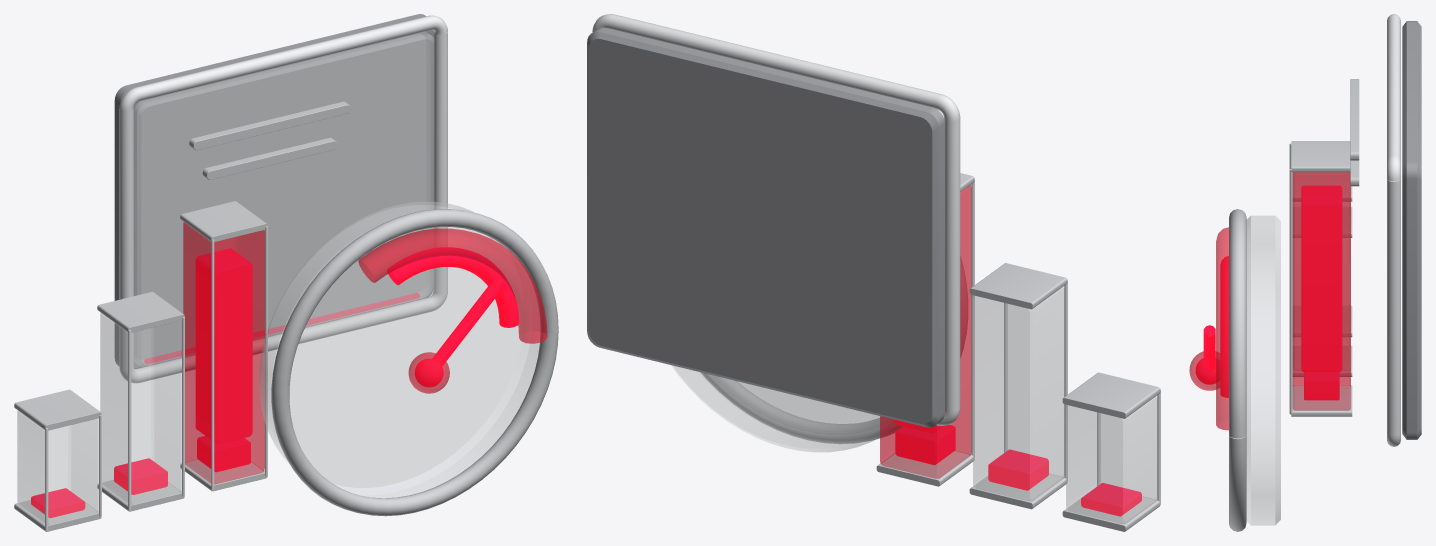
File: 10-kpi.glb
The picture shows the model from 3 angles, left to right: view 1: azimuth 30°, elevation 25°; view 2: azimuth 150°, elevation 25°; view 3: azimuth 270°, elevation 25°; orthographic projection. The views are drawn at different scales.
Parts seen in each view (by area): view 1: BC clear optical glass, BC brushed iron, BC satin iron, BC ruby optical glass, BC internal ruby light, BC polished iron bevel; view 2: BC brushed iron, BC clear optical glass, BC satin iron, BC polished iron bevel, BC ruby optical glass, BC internal ruby light; view 3: BC ruby optical glass, BC clear optical glass, BC satin iron, BC internal ruby light, BC brushed iron, BC polished iron bevel.
Part boxes in pixels (bbox=[...]): BC clear optical glass: bbox=[17, 32, 539, 524]; BC brushed iron: bbox=[114, 14, 433, 368]; BC satin iron: bbox=[14, 101, 558, 531]; BC ruby optical glass: bbox=[183, 222, 547, 483]; BC internal ruby light: bbox=[31, 247, 519, 518]; BC polished iron bevel: bbox=[45, 15, 447, 529]; BC brushed iron: bbox=[587, 27, 944, 427]; BC clear optical glass: bbox=[671, 110, 1157, 523]; BC satin iron: bbox=[700, 173, 1160, 531]; BC polished iron bevel: bbox=[592, 14, 1160, 502]; BC ruby optical glass: bbox=[880, 185, 971, 478]; BC internal ruby light: bbox=[893, 419, 1141, 516]; BC ruby optical glass: bbox=[1189, 172, 1350, 430]; BC clear optical glass: bbox=[1246, 202, 1350, 525]; BC satin iron: bbox=[1229, 79, 1359, 531]; BC internal ruby light: bbox=[1195, 185, 1342, 400]; BC brushed iron: bbox=[1402, 21, 1421, 439]; BC polished iron bevel: bbox=[1289, 14, 1400, 446].
Size of the model in its own units: 2.16 by 1.76 by 0.9125.
